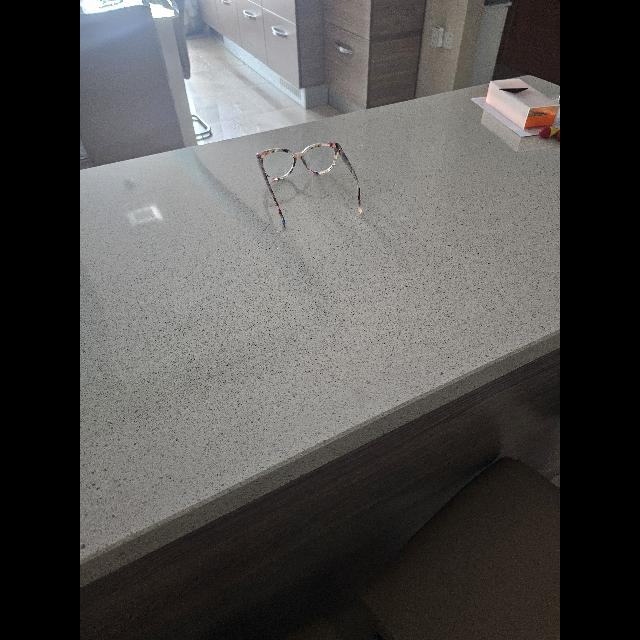glasses: (256, 142, 362, 226)
